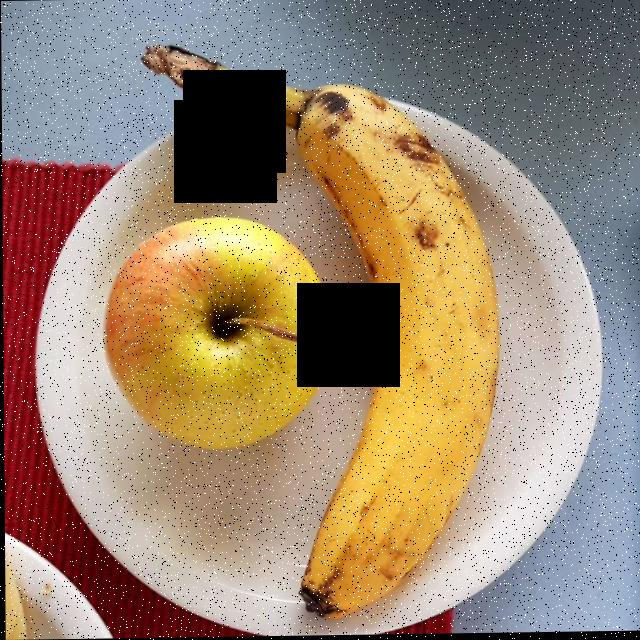apple: (110, 204, 327, 433)
banana: (163, 57, 487, 620)
